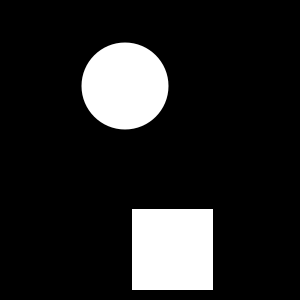circle: (132, 209, 213, 290)
rectangle: (82, 43, 168, 130)
